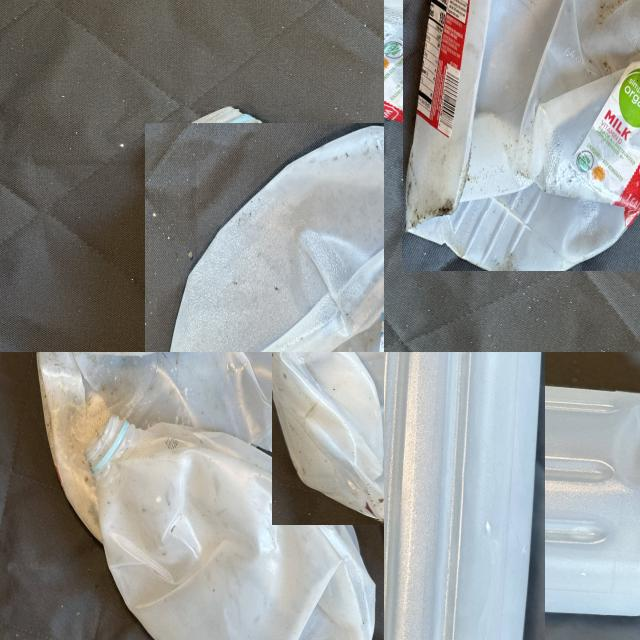milk-jug: (384, 352, 620, 640), (58, 427, 376, 640), (36, 352, 325, 545), (152, 115, 384, 352), (384, 0, 640, 211), (317, 352, 384, 570)
